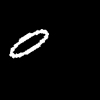chain: (10, 29, 48, 57)
